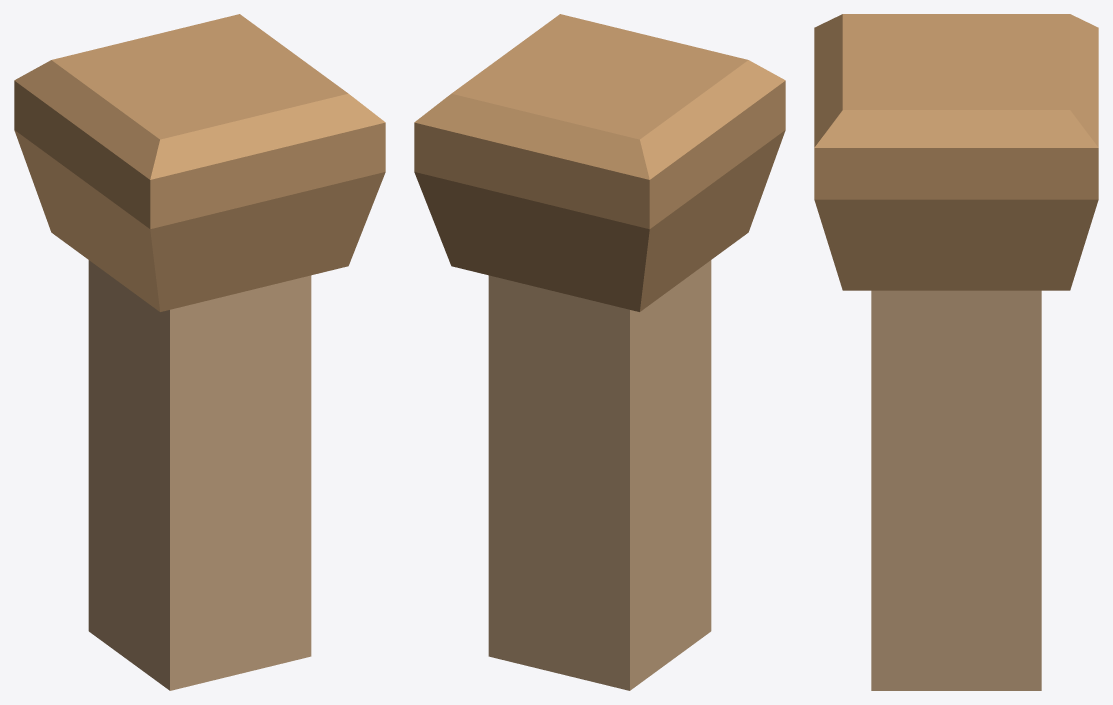
Rendered from Pillar_Wall_Top.obj.
The picture shows the model from 3 angles, left to right: view 1: azimuth 30°, elevation 25°; view 2: azimuth 150°, elevation 25°; view 3: azimuth 270°, elevation 25°; orthographic projection. The views are drawn at different scales.
Visible parts, largest first — view 1: object1, object2; view 2: object1, object2; view 3: object2, object1.
Boxes of the visible parts, x1,y1,x2,y2 form: object1: (88,260,311,690); object2: (14,14,385,311); object1: (488,260,711,690); object2: (414,14,785,311); object2: (814,14,1098,290); object1: (871,290,1041,690).
Bounding box in the file's own units: 0.5 × 1.15 × 0.5.
